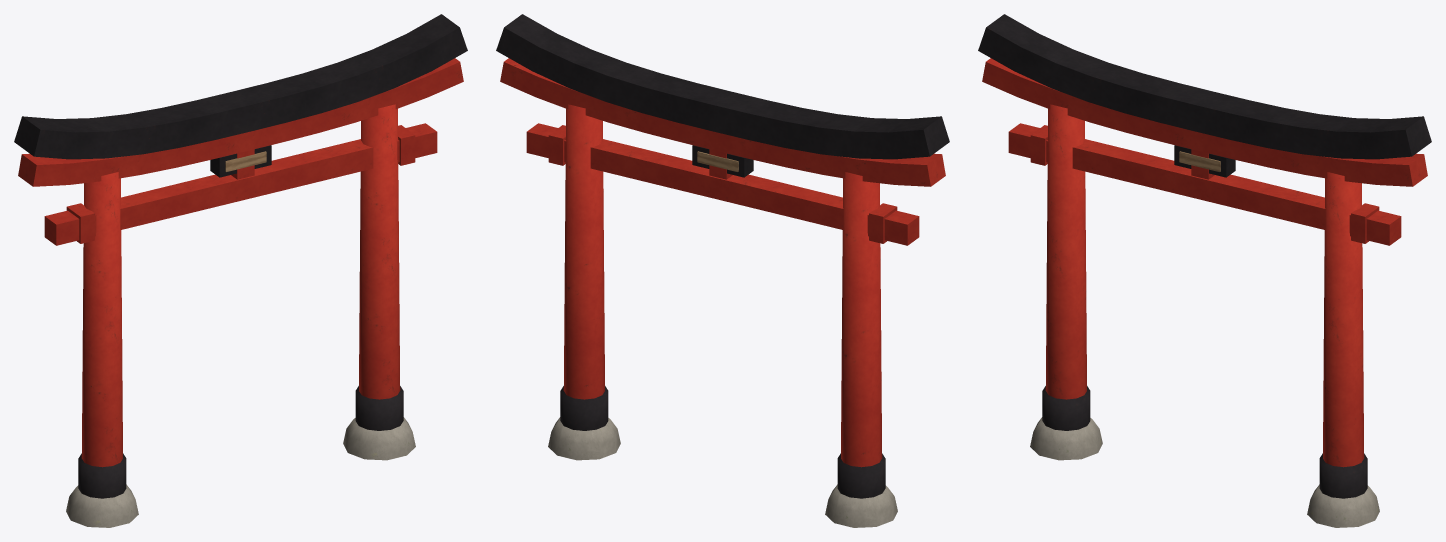
The model's file is HO_Prop_Torii.fbx.
3 renders of one model, left to right at view 1: azimuth 30°, elevation 25°; view 2: azimuth 150°, elevation 25°; view 3: azimuth 330°, elevation 25°, orthographic.
Parts seen in each view (by area): view 1: HO_Prop_Torii__Red_Lacquer, HO_Prop_Torii__Black_Lacquer, HO_Prop_Torii__Stone_Granite; view 2: HO_Prop_Torii__Red_Lacquer, HO_Prop_Torii__Black_Lacquer, HO_Prop_Torii__Stone_Granite; view 3: HO_Prop_Torii__Red_Lacquer, HO_Prop_Torii__Black_Lacquer, HO_Prop_Torii__Stone_Granite.
Boxes of the visible parts, x1,y1,x2,y2 form: HO_Prop_Torii__Red_Lacquer: [18, 58, 463, 467]; HO_Prop_Torii__Black_Lacquer: [14, 14, 467, 498]; HO_Prop_Torii__Stone_Granite: [66, 417, 415, 527]; HO_Prop_Torii__Red_Lacquer: [500, 58, 945, 467]; HO_Prop_Torii__Black_Lacquer: [496, 14, 949, 498]; HO_Prop_Torii__Stone_Granite: [548, 417, 897, 527]; HO_Prop_Torii__Red_Lacquer: [982, 58, 1427, 467]; HO_Prop_Torii__Black_Lacquer: [978, 14, 1431, 498]; HO_Prop_Torii__Stone_Granite: [1030, 417, 1379, 527].
Size of the model in its own units: 15.04 by 13.48 by 2.09.
